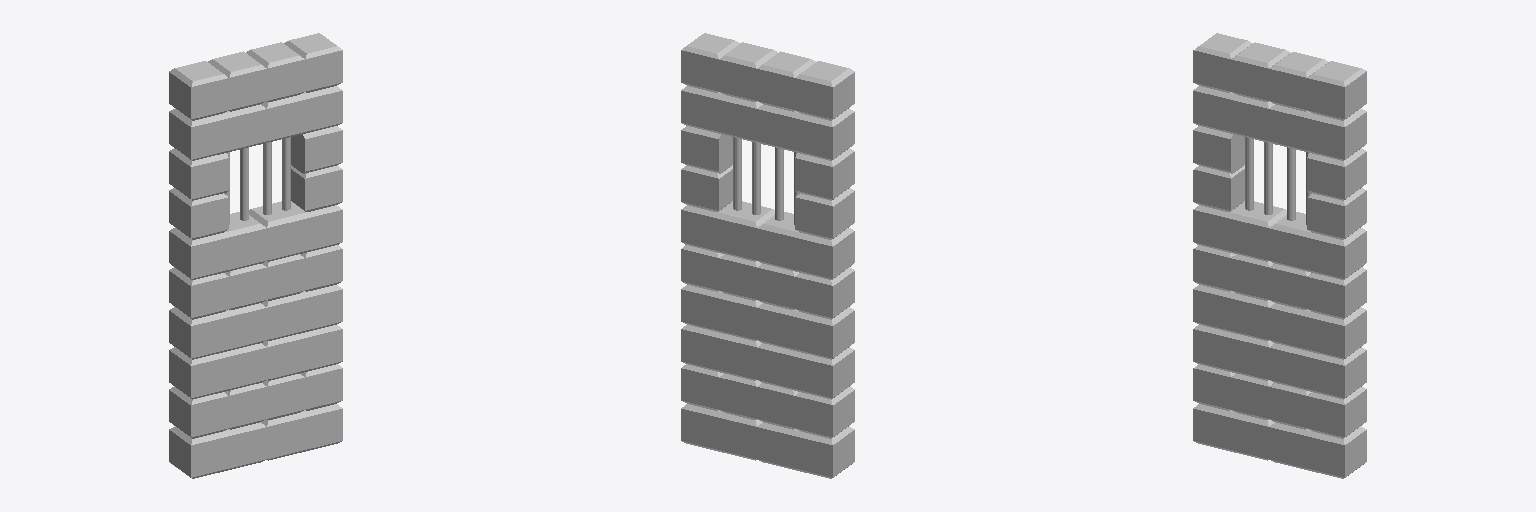
File: Window wall.obj
3 views of the same model, side by side, from view 1: azimuth 30°, elevation 25°; view 2: azimuth 150°, elevation 25°; view 3: azimuth 330°, elevation 25° (orthographic).
Visible parts, largest first — view 1: obj_0.023; view 2: obj_0.023; view 3: obj_0.023.
Boxes of the visible parts, x1=… form: obj_0.023: x1=169, y1=33, x2=342, y2=478; obj_0.023: x1=681, y1=33, x2=854, y2=478; obj_0.023: x1=1193, y1=33, x2=1366, y2=478.
Size of the model in its own units: 40 by 100 by 10.